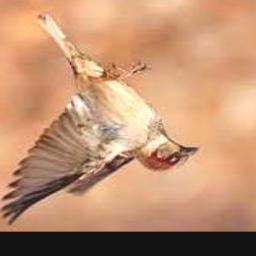Sparrow: (2, 14, 201, 227)
